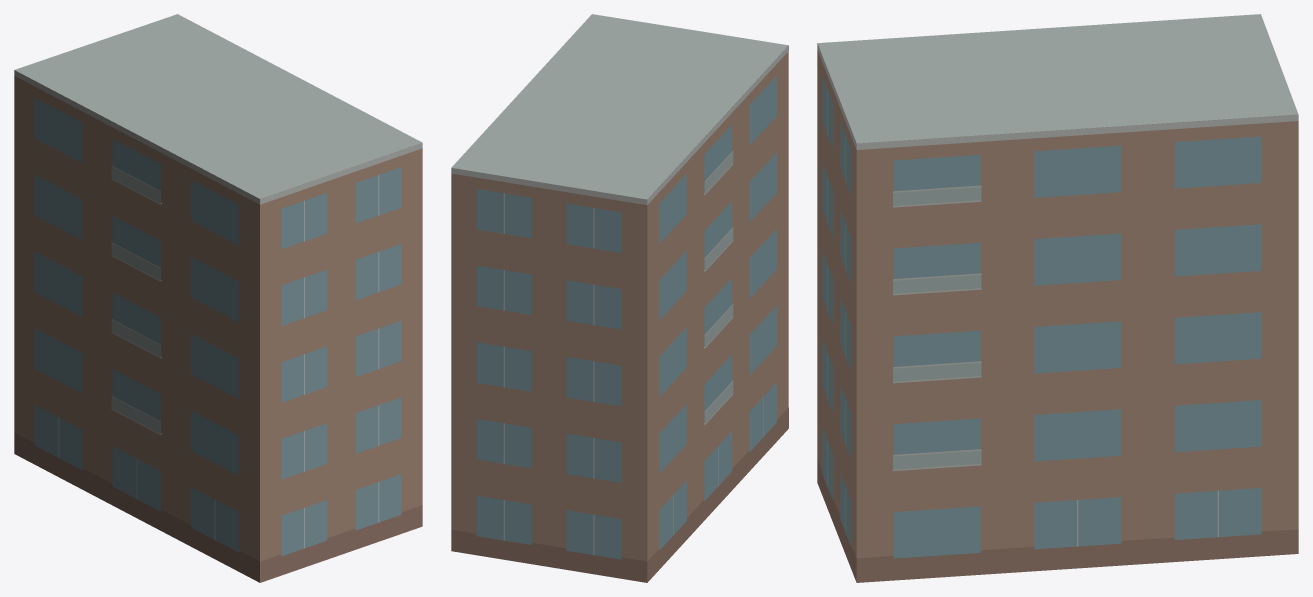
Rendered from survey-upis-32998607.glb.
The picture shows the model from 3 angles, left to right: view 1: azimuth 30°, elevation 25°; view 2: azimuth 150°, elevation 25°; view 3: azimuth 270°, elevation 25°; orthographic projection. The views are drawn at different scales.
Visible parts, largest first — view 1: survey-upis-32998607.tmp; view 2: survey-upis-32998607.tmp; view 3: survey-upis-32998607.tmp.
Part boxes in pixels (box(x1,y1,x2,y2)): survey-upis-32998607.tmp: box(14, 14, 422, 582); survey-upis-32998607.tmp: box(451, 14, 788, 582); survey-upis-32998607.tmp: box(817, 14, 1298, 582).
Bounding box in the file's own units: 10.44 × 16.5 × 16.39.
